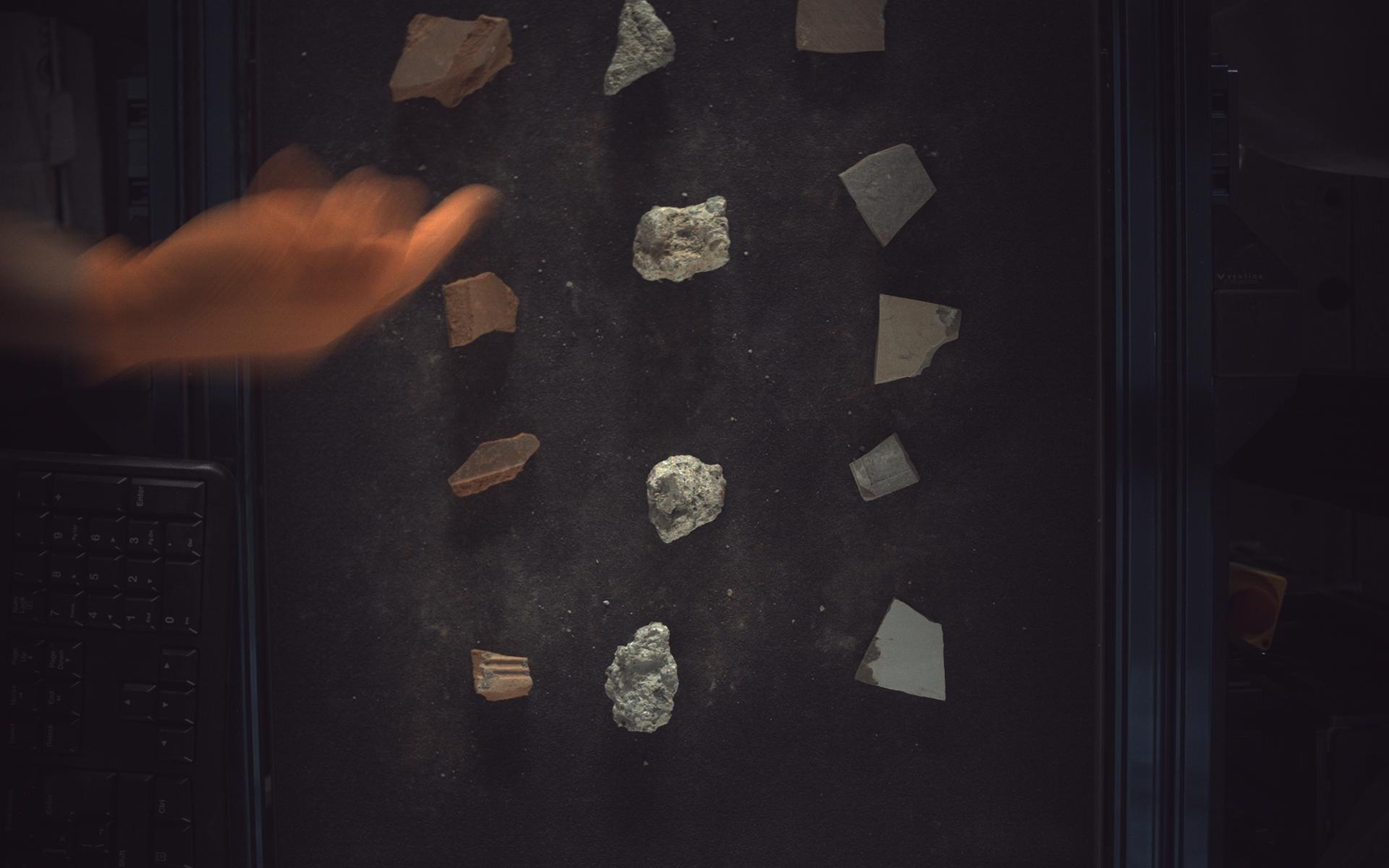brick: (389, 12, 512, 106), (449, 433, 540, 497), (443, 272, 519, 347), (471, 650, 533, 702)
concrete: (633, 197, 731, 281), (606, 623, 679, 734), (647, 455, 727, 543), (605, 1, 676, 94)
tile: (841, 142, 938, 245), (857, 600, 948, 702), (876, 294, 963, 383), (851, 434, 921, 501), (797, 1, 888, 51)
